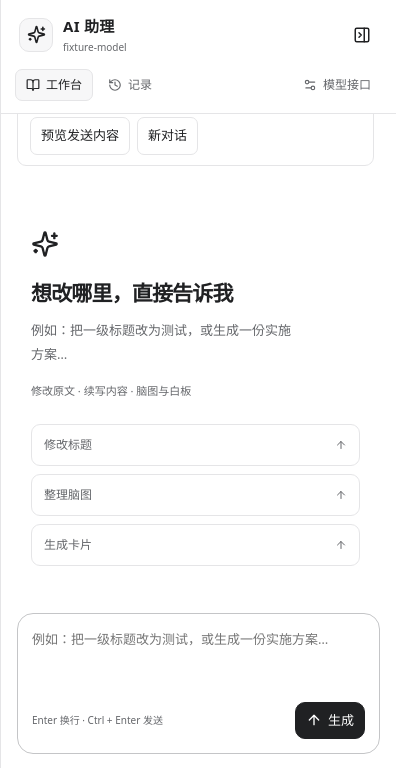
Test: AI workspace › writes conversation content into an empty document and can undo the exact write
This screenshot has width=413, height=768.
Later steps or results of the test are not shown.
(page scrolled)
Expected: the text "fixture-model" is shown, top-left (63, 39), bottom-right (127, 55)
Type "写一段项目简介" into the text box named "向 AI 助理发送消息". click: (199, 661)
box: top-left (32, 628), bottom-right (365, 694)
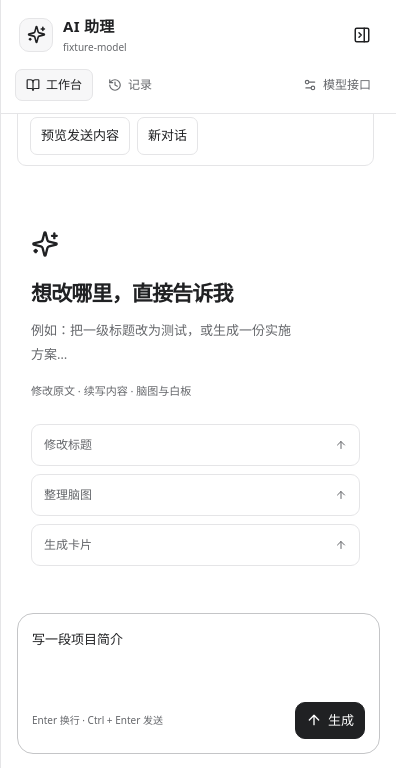
Click the button "生成". click: click(330, 720)
box: top-left (295, 702), bottom-right (365, 739)
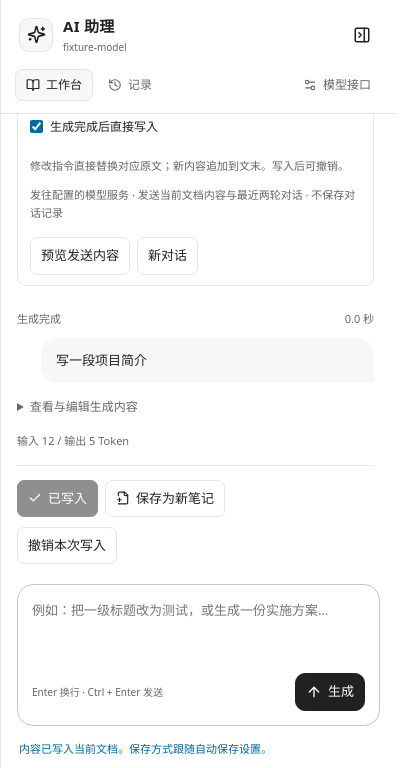
Now the button "已写入" is disabled, box top-left (17, 480), bottom-right (98, 517)
